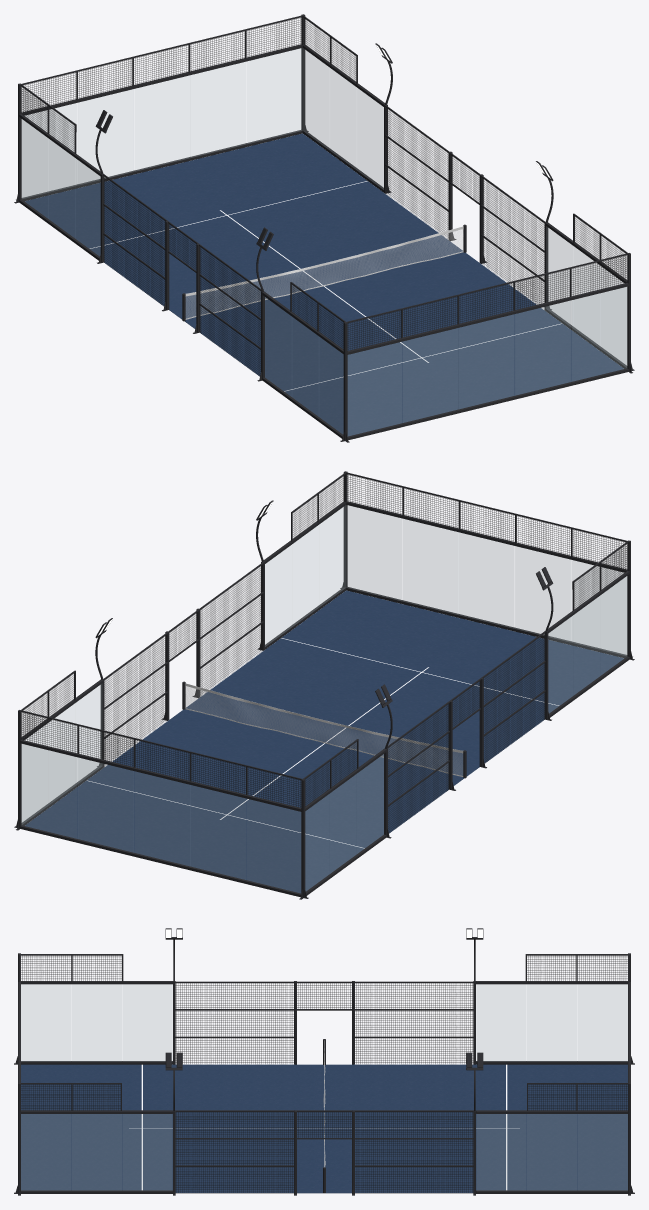
The model's file is court.glb.
3 renders of one model, top to bottom at view 1: azimuth 30°, elevation 25°; view 2: azimuth 150°, elevation 25°; view 3: azimuth 270°, elevation 25°, orthographic. The views are drawn at different scales.
Visible parts, largest first — view 1: Padel007; view 2: Padel007; view 3: Padel007.
Boxes of the visible parts, box(x1,y1,x2,y2) form: Padel007: box(14, 14, 634, 442); Padel007: box(14, 471, 634, 899); Padel007: box(14, 928, 634, 1195).
Size of the model in its own units: 10.56 by 5.04 by 20.45.
Materials: 10 (3 with a texture image).
